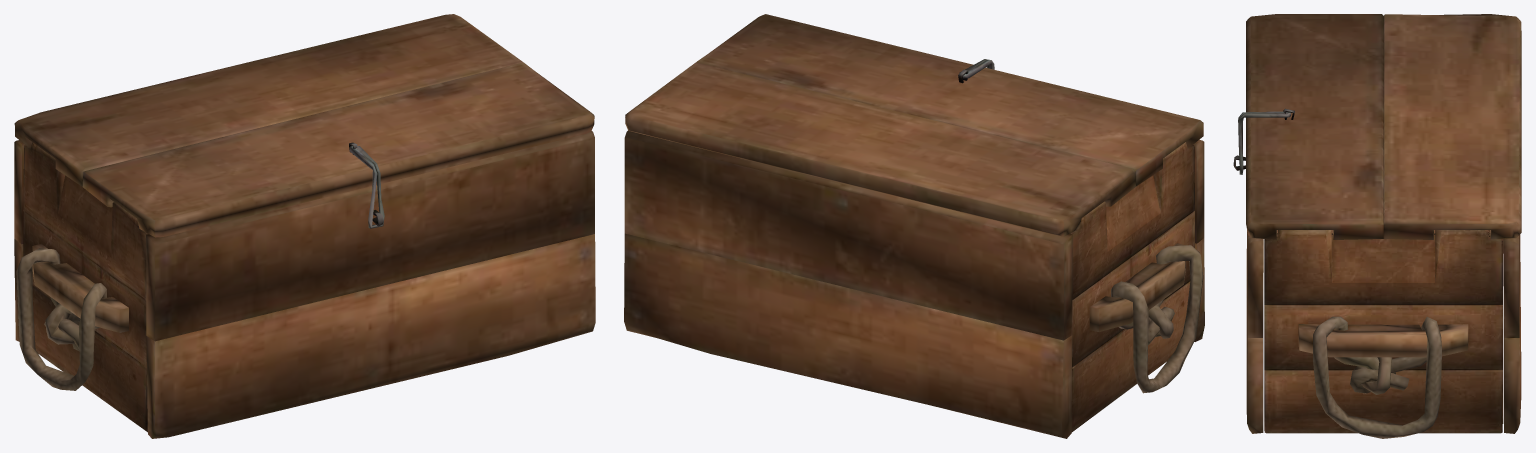
The model's file is wooden_crate_01.glb.
The picture shows the model from 3 angles, left to right: view 1: azimuth 30°, elevation 25°; view 2: azimuth 150°, elevation 25°; view 3: azimuth 270°, elevation 25°; orthographic projection. The views are drawn at different scales.
Parts seen in each view (by area): view 1: wooden_crate_01_lid; view 2: wooden_crate_01_lid; view 3: wooden_crate_01_lid.
Part boxes in pixels (bbox=[...]): wooden_crate_01_lid: bbox=[14, 14, 595, 438]; wooden_crate_01_lid: bbox=[624, 14, 1204, 438]; wooden_crate_01_lid: bbox=[1233, 14, 1521, 438].
Size of the model in its own units: 0.8226 by 0.3486 by 0.4083.
1 material, 1 textured.
